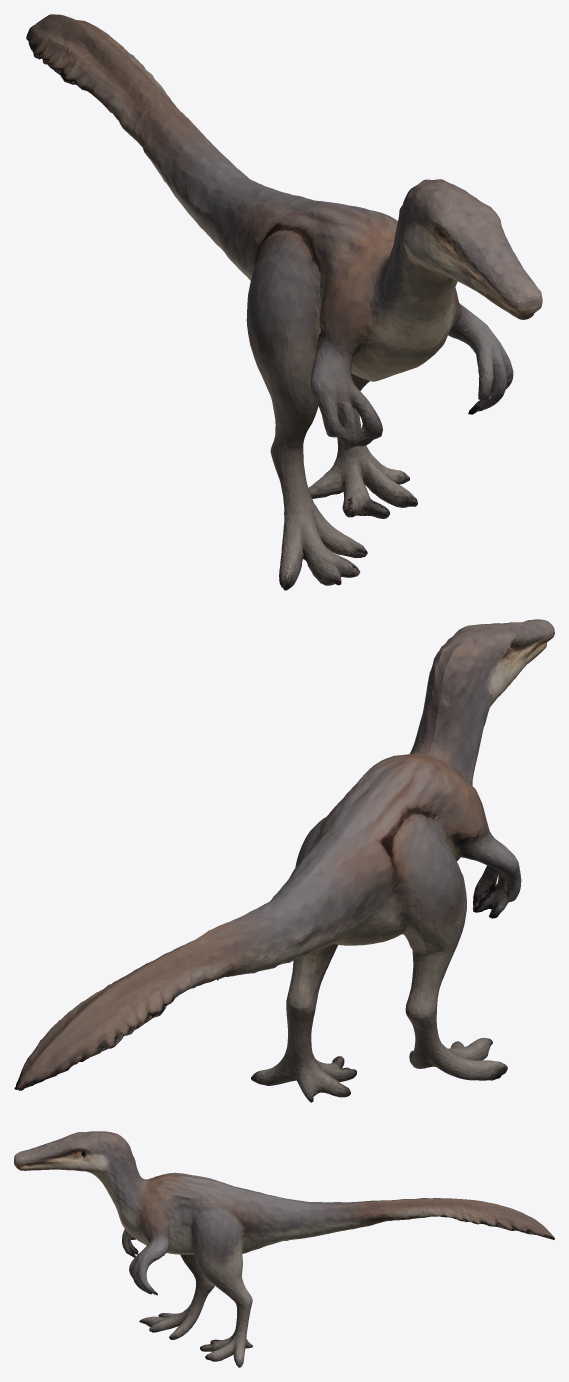
Rendered from model-v685dbf43eaf6.glb.
3 views of the same model, one above another, from view 1: azimuth 30°, elevation 25°; view 2: azimuth 150°, elevation 25°; view 3: azimuth 270°, elevation 25° (orthographic). The views are drawn at different scales.
Visible parts, largest first — view 1: world; view 2: world; view 3: world.
Part boxes in pixels (x1=…): world: x1=26, y1=14, x2=542, y2=590; world: x1=14, y1=619, x2=554, y2=1102; world: x1=14, y1=1131, x2=554, y2=1367.
Size of the model in its own units: 0.2299 by 0.4342 by 1.
1 material, 1 textured.
